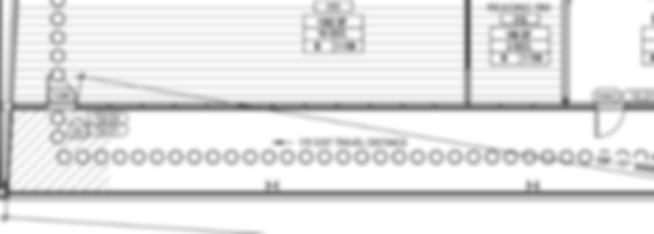door: (45, 74, 82, 107), (594, 104, 624, 140)
